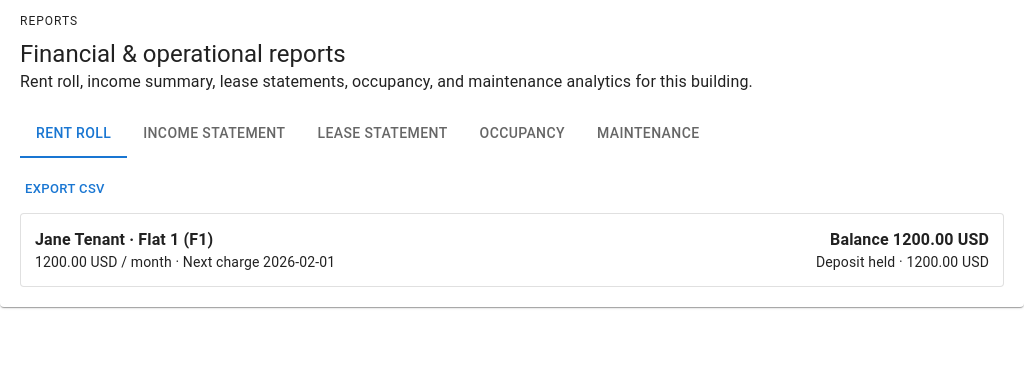
shows the maintenance analytics report
Click the tab "Maintenance" at (648, 134), box [581,110,716,158]
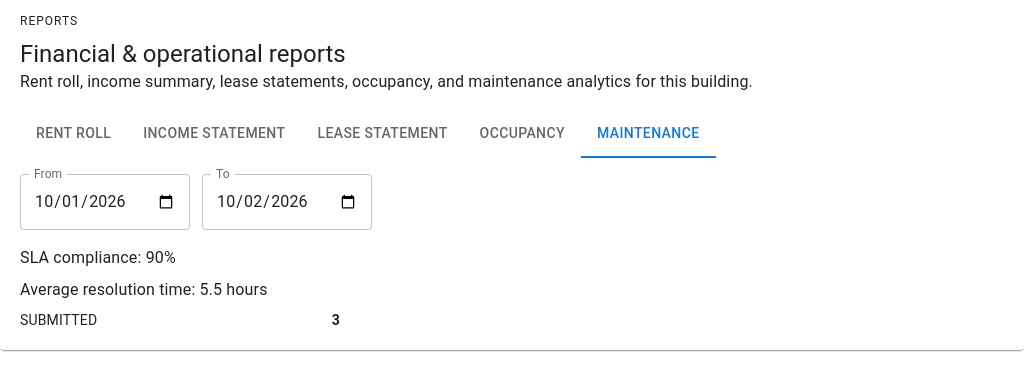
Check: the text "SLA compliance: 90%" is shown, box [20,248,176,267]
Check: the text "Average resolution time: 5.5 hours" is shown, box [20,280,268,299]
